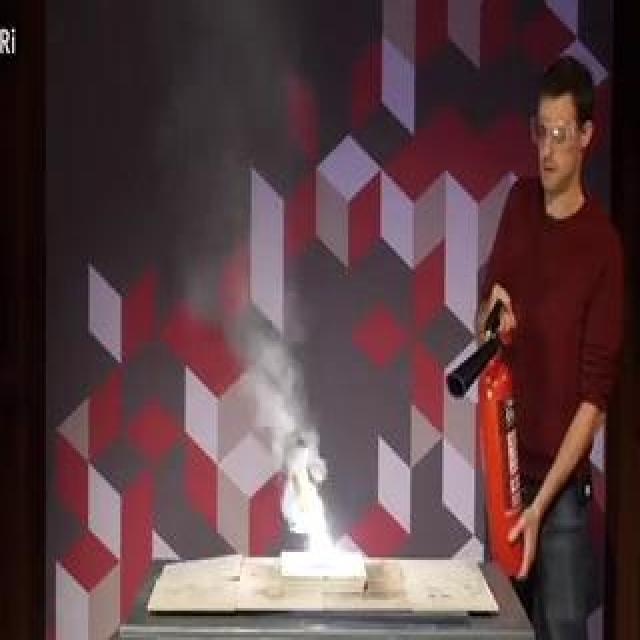Fire: (56, 82, 316, 526)
